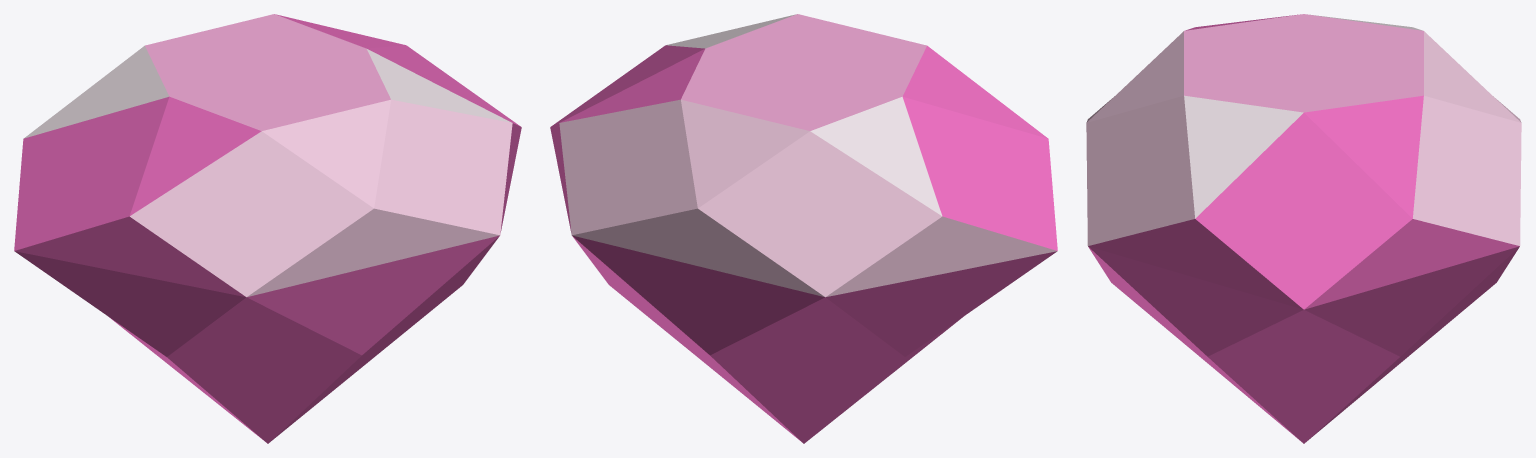
Rendered from diamond_r2.fbx.
3 views of the same model, side by side, from view 1: azimuth 30°, elevation 25°; view 2: azimuth 150°, elevation 25°; view 3: azimuth 270°, elevation 25° (orthographic). The views are drawn at different scales.
Visible parts, largest first — view 1: diamond; view 2: diamond; view 3: diamond.
Boxes of the visible parts, x1,y1,x2,y2 form: diamond: (14,14,521,443); diamond: (550,14,1057,443); diamond: (1086,14,1521,443).
Bounding box in the file's own units: 117 × 81.5 × 84.44.
